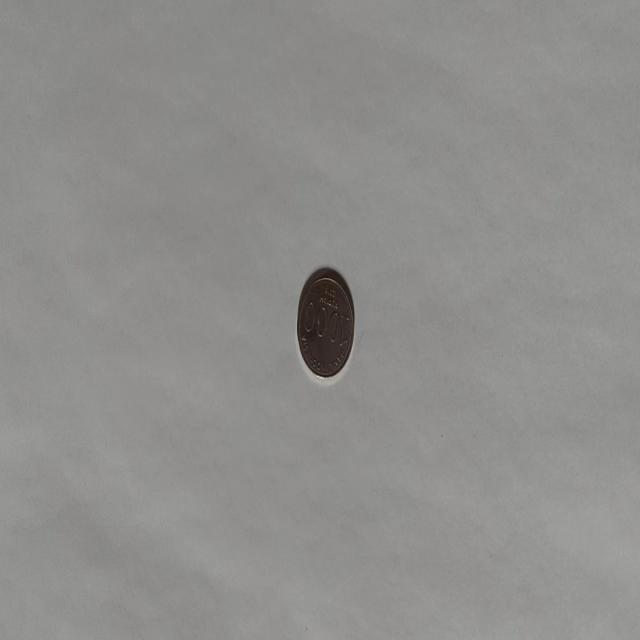seribu rupiah koin: (295, 266, 355, 380)
